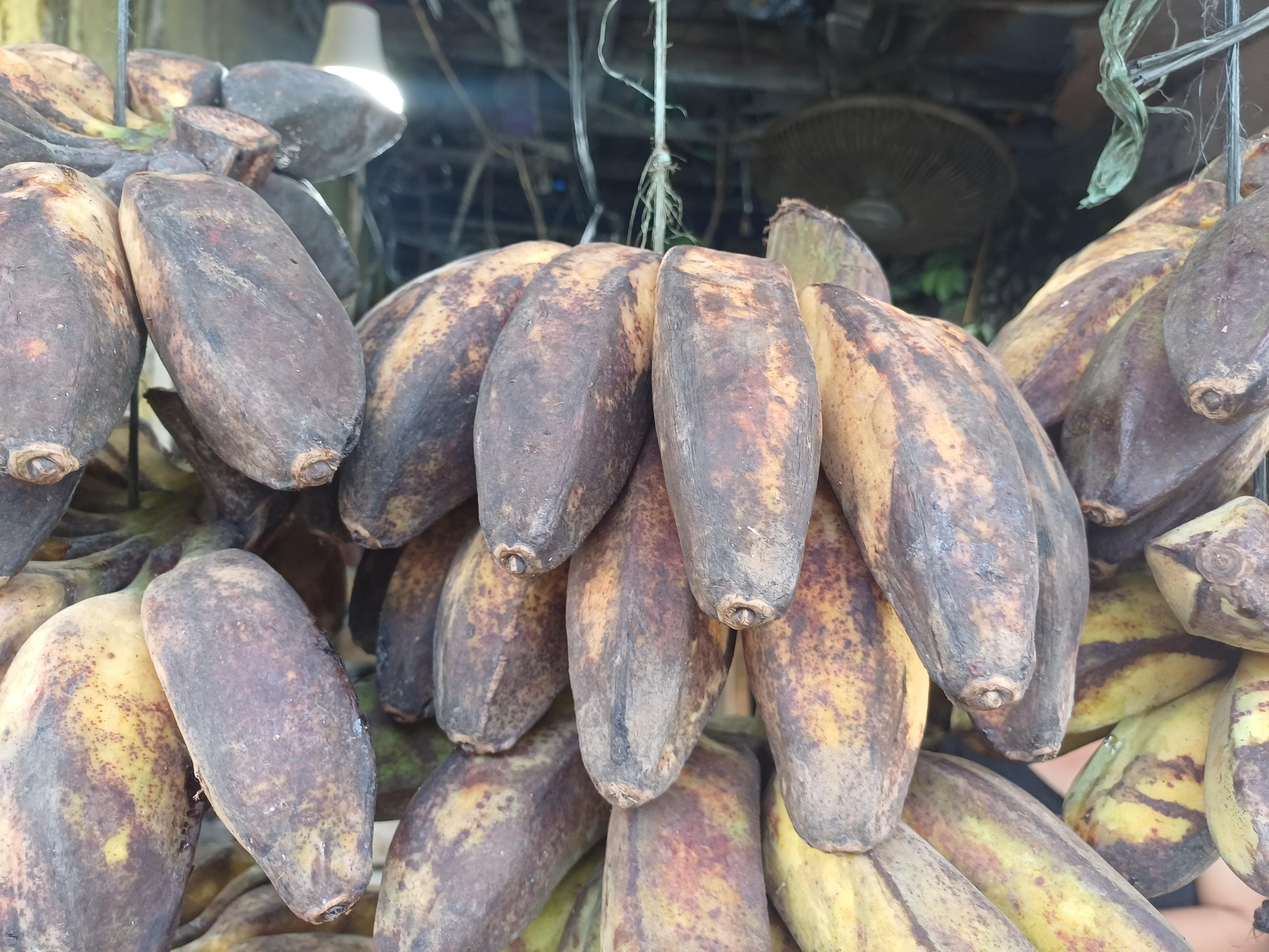overripe: (0, 42, 366, 590), (985, 150, 1269, 581), (127, 49, 406, 298)
ripe: (301, 241, 1088, 852), (0, 549, 376, 952)
underripe: (371, 689, 1189, 952), (1062, 496, 1269, 898)
